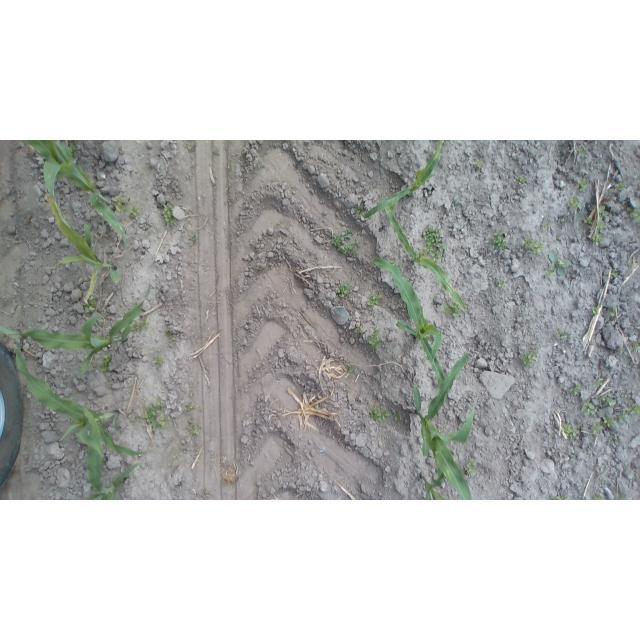Maize: (12, 344, 148, 457), (0, 284, 148, 378), (23, 140, 129, 248), (372, 257, 448, 388), (382, 201, 467, 309), (412, 351, 473, 500), (43, 191, 121, 302), (364, 140, 446, 220), (79, 403, 144, 500), (416, 469, 445, 500)
Weeds: (332, 230, 361, 258), (423, 227, 446, 261), (144, 402, 170, 431), (547, 252, 570, 277), (521, 237, 545, 255), (160, 204, 178, 227), (570, 197, 587, 220), (370, 404, 391, 422), (619, 403, 640, 421), (367, 328, 382, 353), (112, 193, 131, 212), (582, 400, 603, 417), (440, 302, 462, 317), (492, 230, 508, 249), (336, 281, 353, 298), (562, 423, 580, 438), (575, 178, 590, 193), (466, 459, 479, 476), (130, 321, 150, 332), (99, 354, 111, 372), (127, 205, 141, 220), (524, 351, 539, 365), (84, 298, 97, 314), (188, 419, 201, 435), (367, 294, 383, 307), (599, 396, 617, 407), (592, 232, 605, 246), (627, 207, 640, 221), (591, 423, 604, 436), (576, 143, 588, 157), (604, 416, 616, 429), (570, 383, 582, 396), (165, 328, 176, 341), (599, 205, 610, 217), (152, 356, 165, 366), (629, 342, 640, 353), (347, 363, 357, 375), (517, 175, 528, 185), (352, 206, 364, 215), (596, 219, 606, 229), (541, 220, 551, 230), (188, 235, 197, 246), (557, 332, 568, 341), (593, 305, 602, 316), (610, 268, 618, 280), (394, 411, 403, 421), (130, 413, 138, 423), (556, 494, 569, 500), (619, 493, 630, 500), (584, 216, 593, 224), (474, 160, 482, 169), (354, 324, 362, 333), (186, 145, 194, 153), (616, 183, 625, 190), (610, 308, 617, 317), (498, 279, 505, 287), (594, 381, 602, 388), (184, 406, 193, 412), (416, 251, 425, 257), (593, 496, 604, 500), (389, 259, 396, 265), (91, 364, 97, 370), (557, 148, 563, 153), (619, 349, 625, 354)
